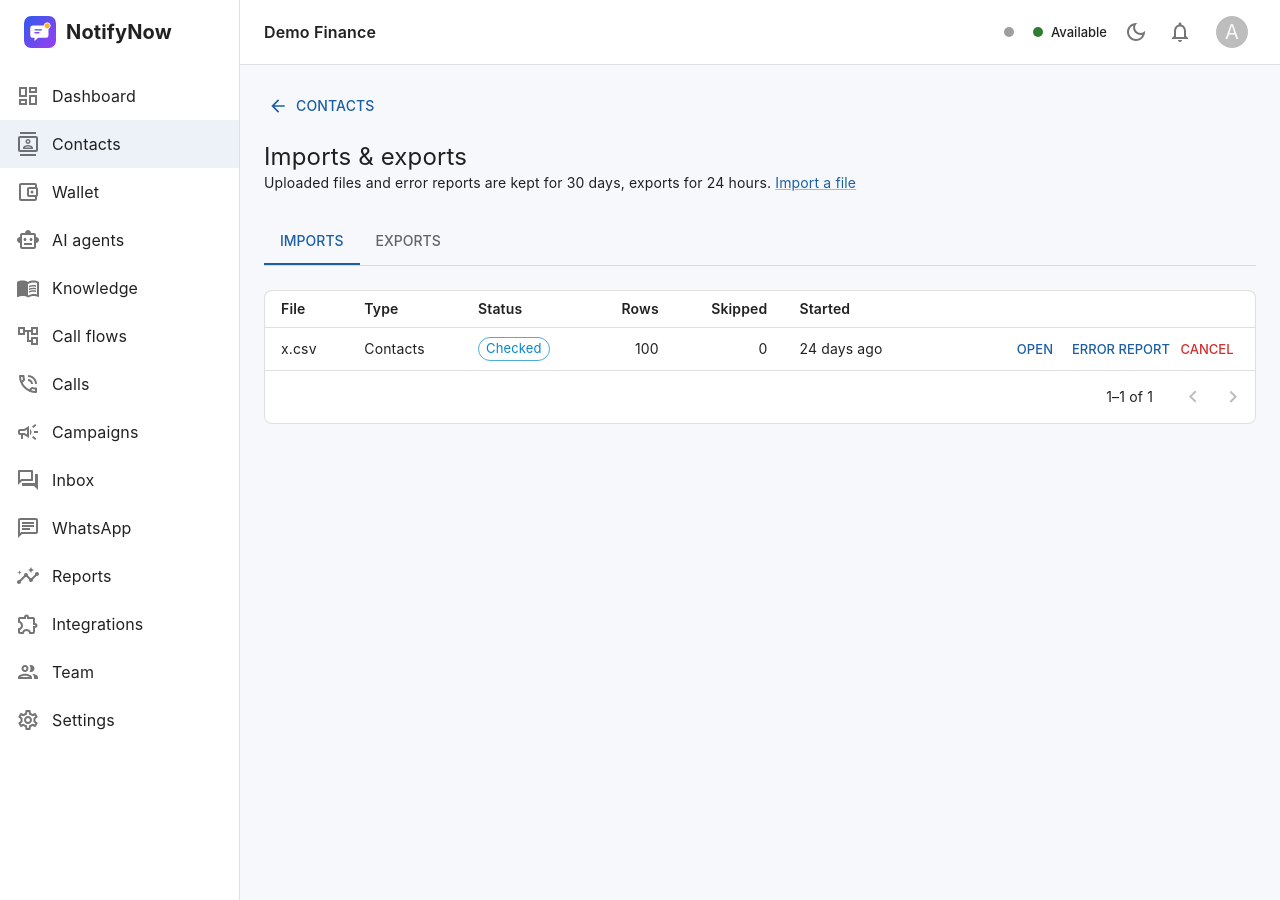
Scenario: ActivityPage › shows errors from actions
Click the button "Error report" at point(1121, 349), box x1=1067 y1=334 x2=1175 y2=364
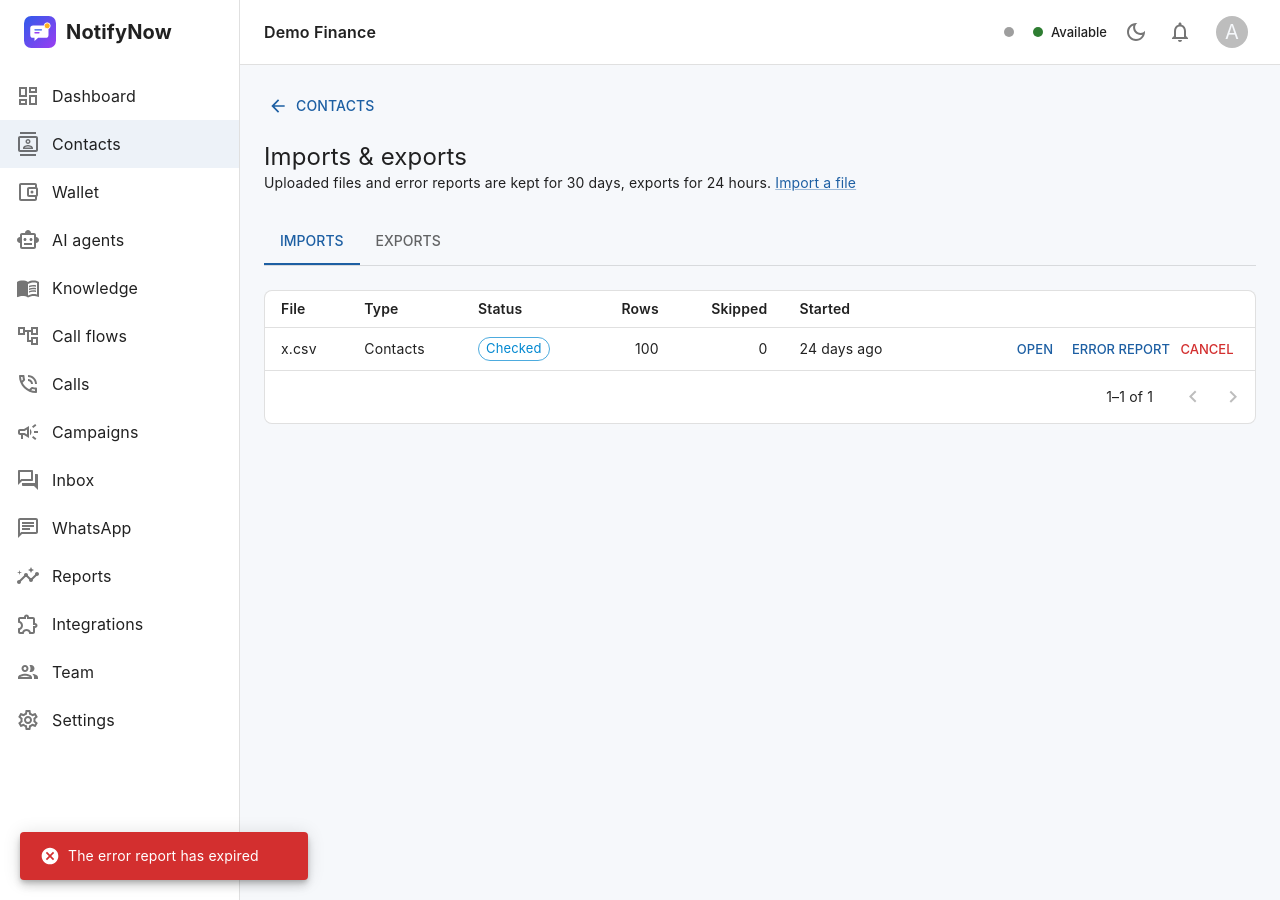
Expected: the text "The error report has expired" is shown, x1=40 y1=846 x2=259 y2=866
